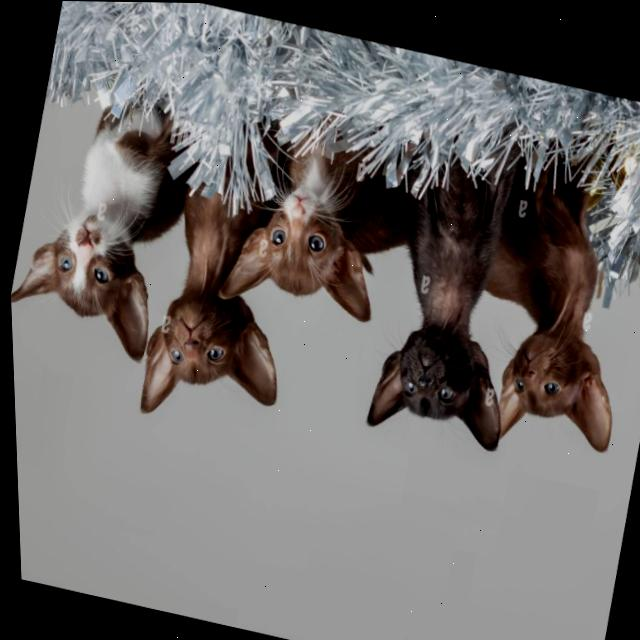Oriental: (344, 130, 554, 455), (449, 141, 640, 462), (2, 65, 197, 366), (207, 109, 427, 339), (125, 266, 301, 445)
